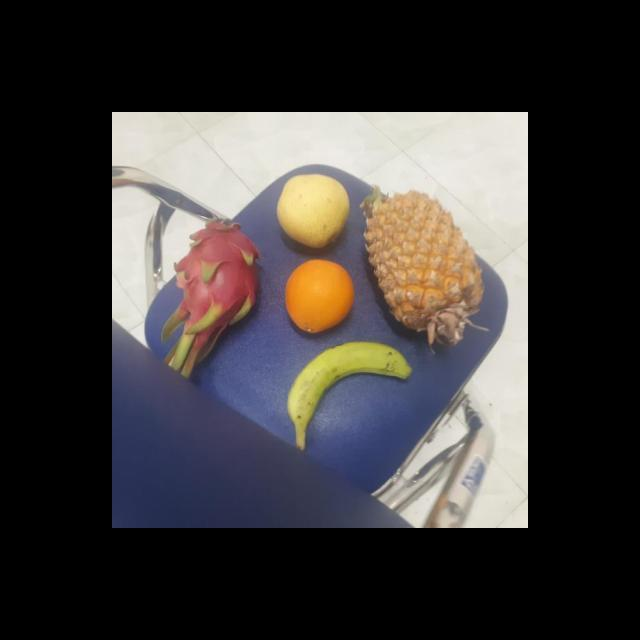banana: (286, 338, 406, 436)
orange: (282, 257, 356, 332)
pear: (274, 170, 352, 249)
pineapple: (356, 190, 482, 346)
pitaya: (174, 222, 259, 327)
